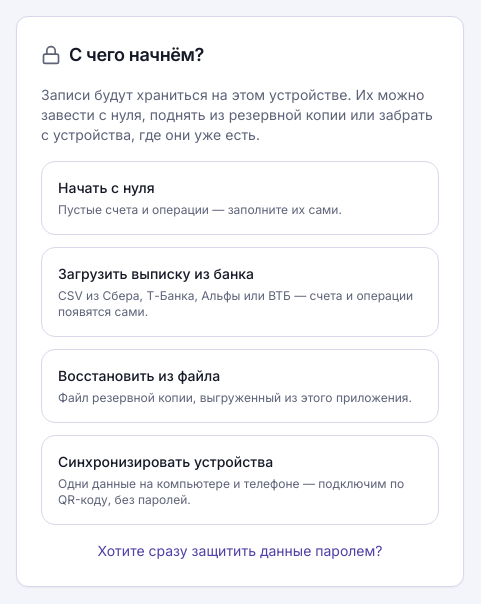
Test: забрать данные с другого устройства › со связки можно вернуться назад, к выбору
The width and height of the screenshot is (481, 604).
Step 1. Click the text "Синхронизировать устройства" → (166, 461), box [58,452,273,470]
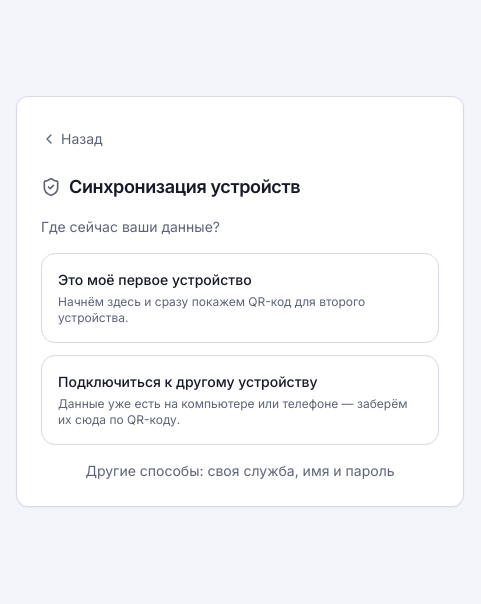
Step 2. Click the button "Другие способы: своя служба, имя и пароль" → (240, 470), box [41,460,439,480]
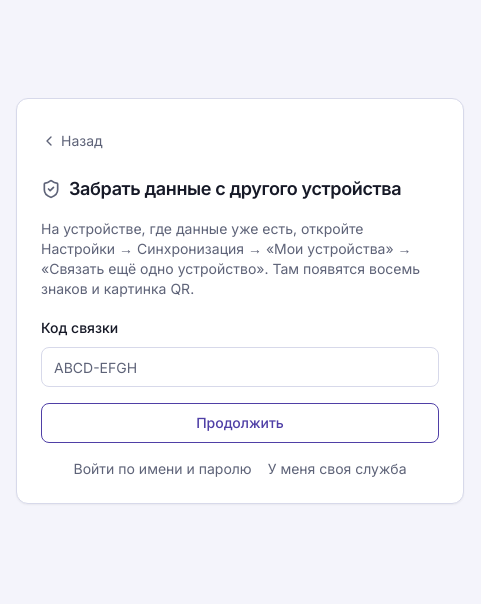
Step 3. Click the button "Назад" → (72, 141), box [37,123,107,159]
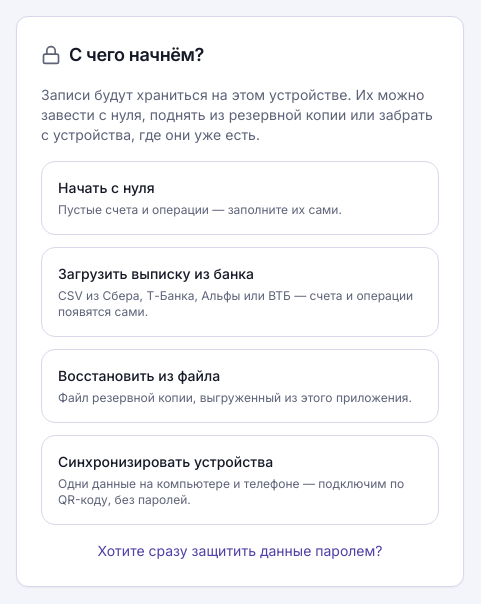
Expected: the text "Синхронизировать устройства" is shown, [58,452,273,470]
